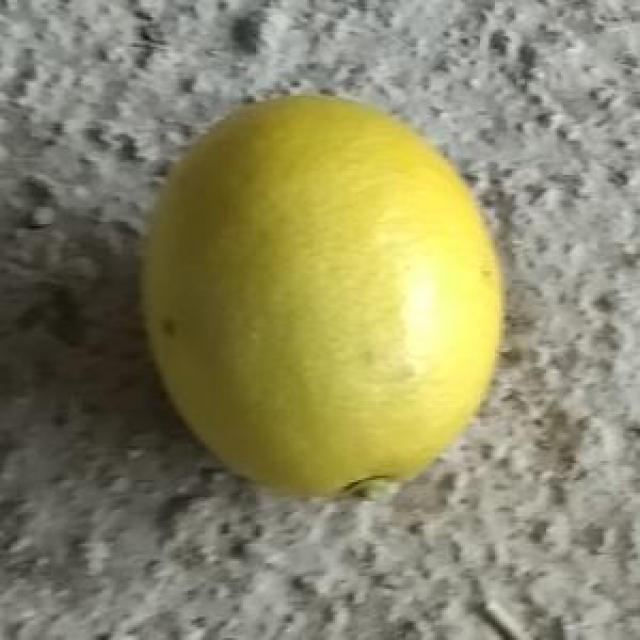lemon: (140, 94, 509, 502)
